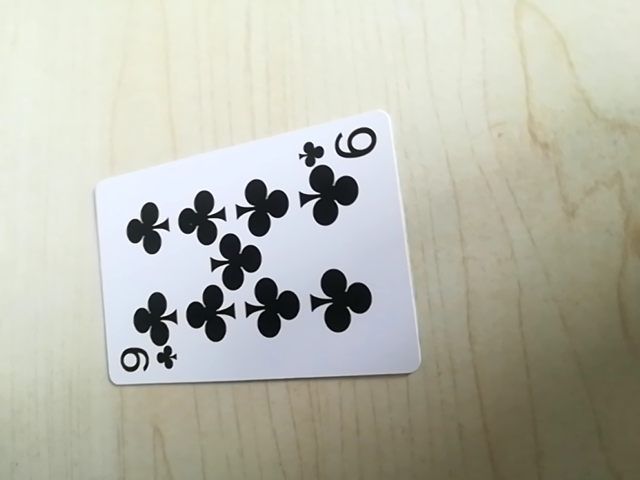mh 9: (297, 122, 382, 165), (113, 340, 182, 382)
